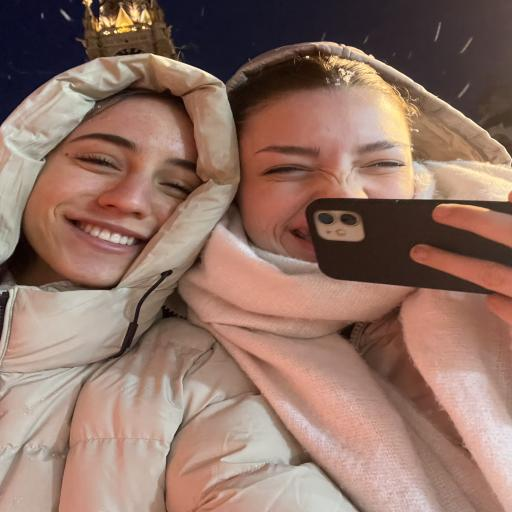masa: (24, 91, 189, 287)
